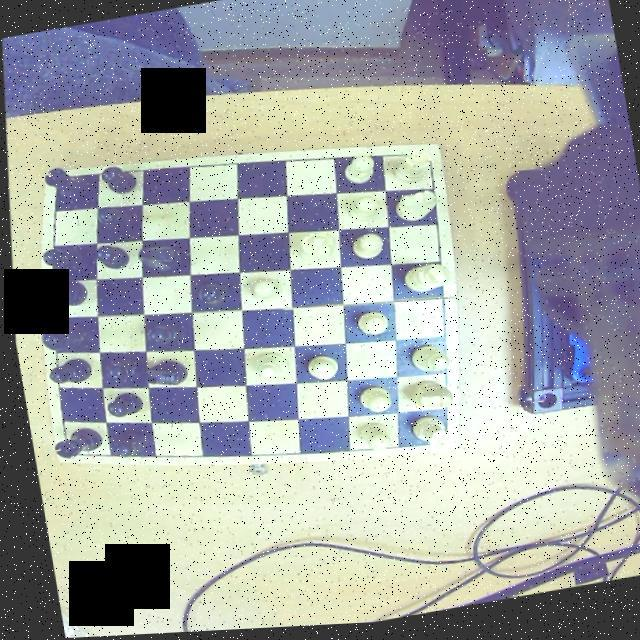chess-table-corners: (424, 428, 454, 456), (412, 147, 442, 174), (42, 168, 74, 190), (50, 437, 76, 462)
